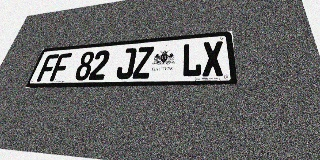2: (88, 50, 111, 80)
8: (73, 51, 96, 81)
F: (36, 54, 59, 82), (49, 53, 72, 81)
J: (115, 48, 137, 79)
L: (181, 42, 202, 77)
X: (202, 41, 224, 77)
Z: (132, 46, 154, 79)
